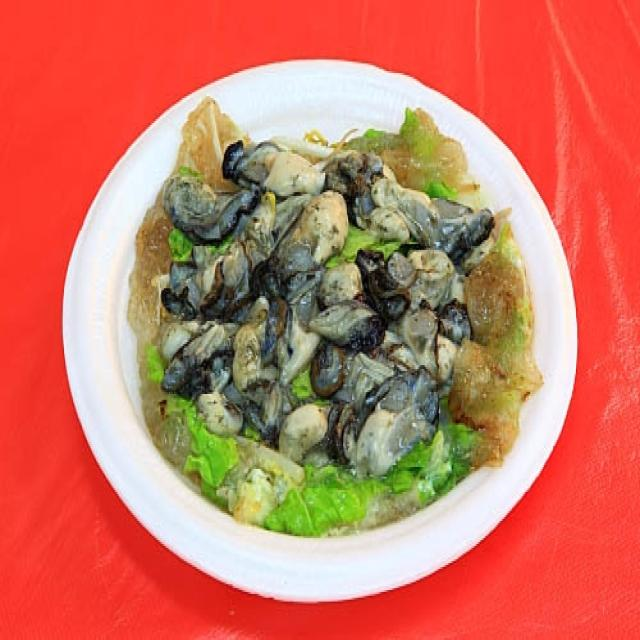熟制海鲜: (65, 56, 589, 602)
